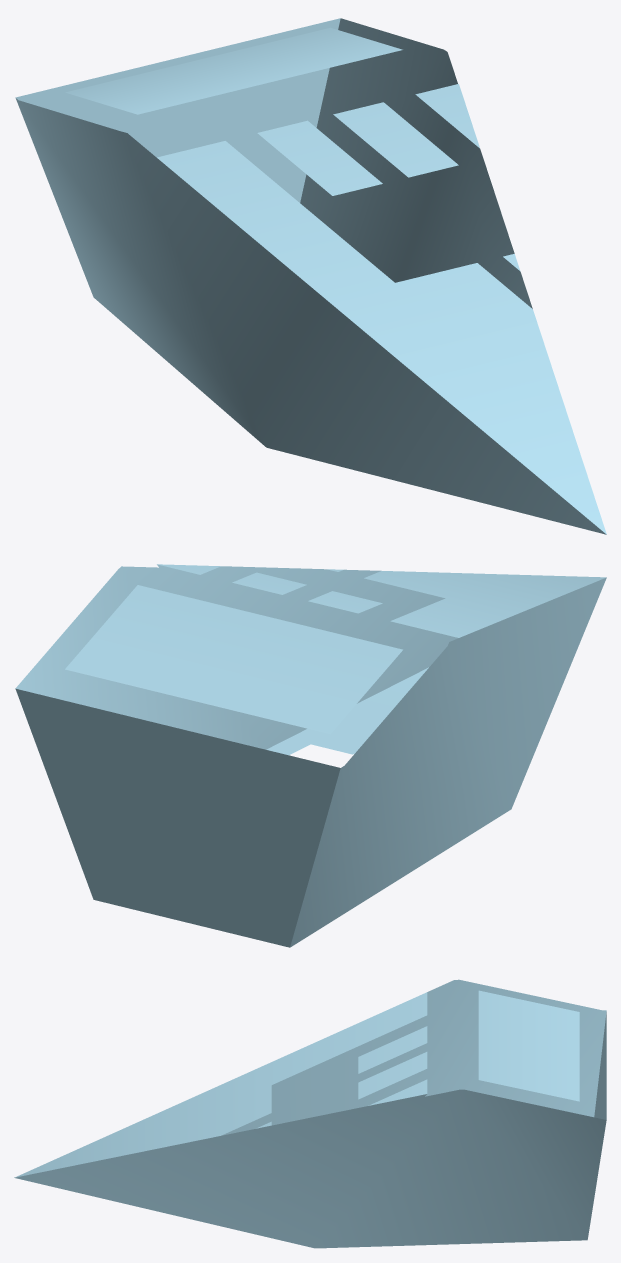
File: C_GH_Feet_F1.FBX
The picture shows the model from 3 angles, top to bottom: view 1: azimuth 30°, elevation 25°; view 2: azimuth 150°, elevation 25°; view 3: azimuth 270°, elevation 25°; orthographic projection. The views are drawn at different scales.
Parts seen in each view (by area): view 1: RightFoot; view 2: RightFoot; view 3: RightFoot.
Boxes of the visible parts, x1,y1,x2,y2 form: RightFoot: (15,18,606,534); RightFoot: (15,564,606,947); RightFoot: (14,979,606,1248).
Size of the model in its own units: 8.12 by 6.02 by 18.43.
Materials: 1 (1 with a texture image).
